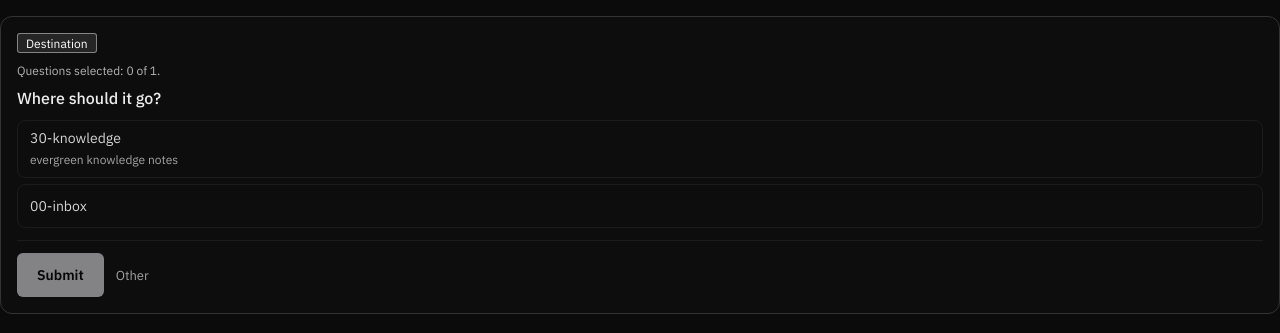
Test: a multi-select toggled back to empty drops its pick
Click the button with class "card-option" that starts with "30-knowledge" at (75, 138), box [17,120,1263,178]
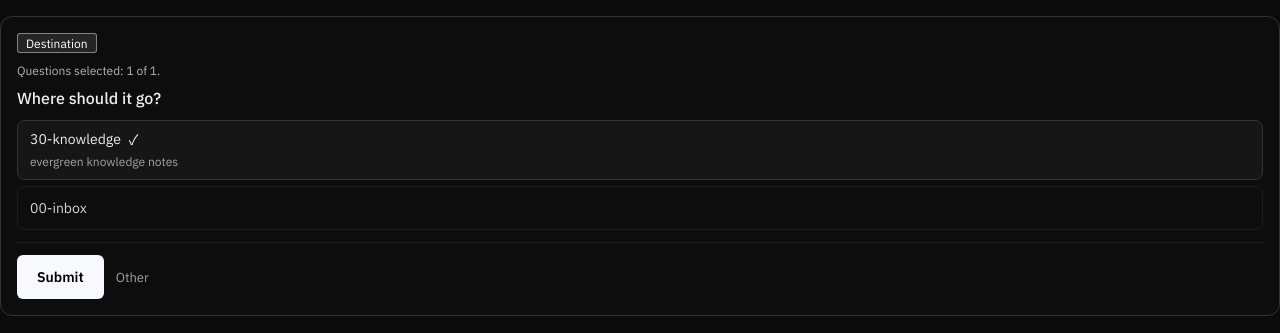
expect the text "Questions selected: 1 of 1." is shown: met, box [17,63,160,78]
expect the button "Submit" is enabled: met, box [17,255,104,299]
Click the button with class "card-option" that starts with "30-knowledge" at (75, 139), box [17,120,1263,180]
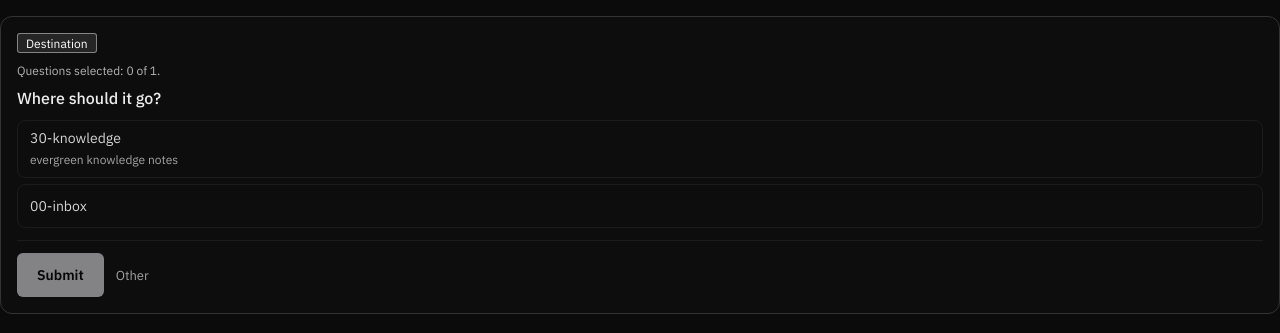
expect the text "Questions selected: 0 of 1." is shown: met, box [17,63,160,78]
expect the button "Submit" is disabled: met, box [17,253,104,297]
